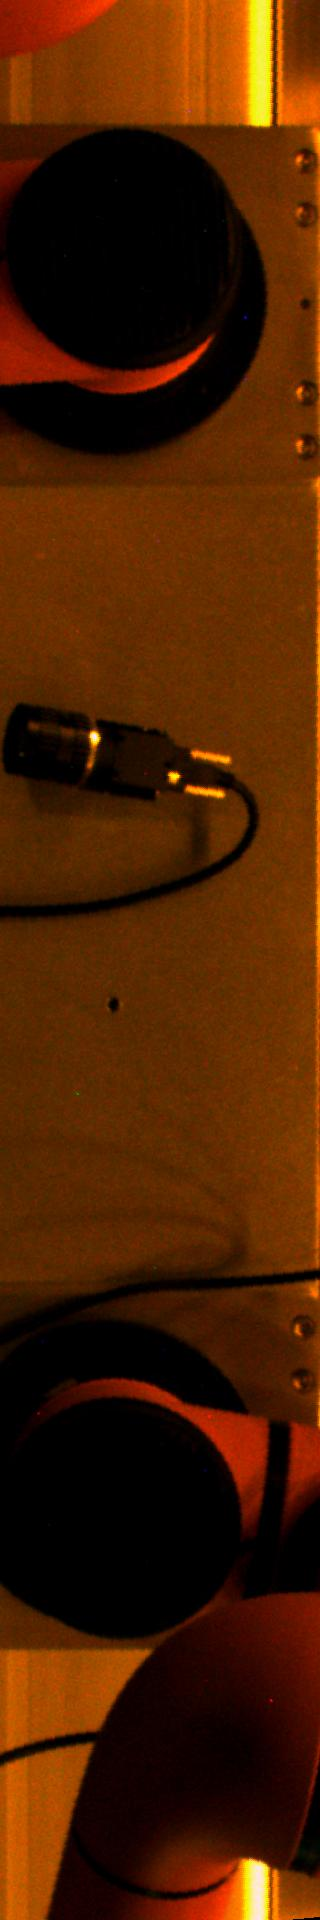keyPoint_2: (98, 989, 128, 1020)
